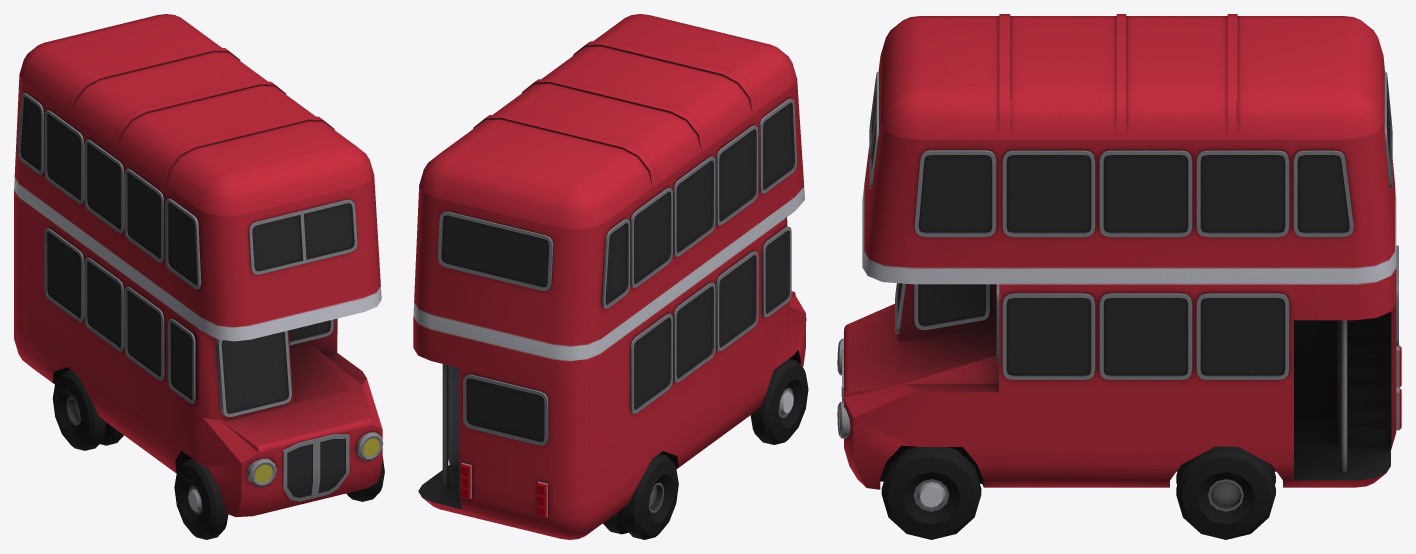
Rendered from DoubleDeckerBus.FBX.
The picture shows the model from 3 angles, left to right: view 1: azimuth 30°, elevation 25°; view 2: azimuth 150°, elevation 25°; view 3: azimuth 270°, elevation 25°; orthographic projection. The views are drawn at different scales.
Parts seen in each view (by area): view 1: Bus, Windows, Wheels, Details; view 2: Bus, Windows, Wheels, Details; view 3: Bus, Windows, Wheels, Details.
Boxes of the visible parts, x1=… form: Bus: x1=14, y1=14, x2=382, y2=517; Windows: x1=17, y1=93, x2=357, y2=416; Wheels: x1=52, y1=369, x2=384, y2=539; Details: x1=246, y1=432, x2=383, y2=501; Bus: x1=413, y1=14, x2=805, y2=539; Windows: x1=437, y1=98, x2=796, y2=445; Wheels: x1=603, y1=358, x2=808, y2=539; Details: x1=461, y1=317, x2=806, y2=517; Bus: x1=844, y1=14, x2=1396, y2=489; Windows: x1=869, y1=72, x2=1398, y2=379; Wheels: x1=881, y1=446, x2=1275, y2=539; Details: x1=837, y1=338, x2=1401, y2=438.
Bounding box in the file's own units: 2.49 × 4.87 × 5.66.
Materials: 4 (4 with a texture image).
